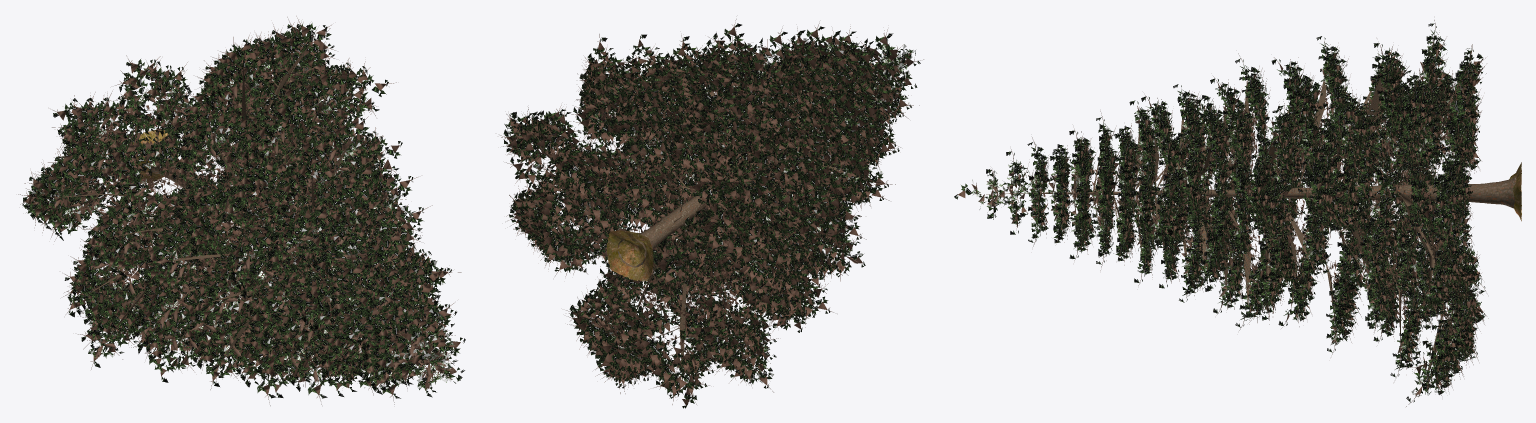
File: granfir.glb
3 views of the same model, side by side, from view 1: azimuth 30°, elevation 25°; view 2: azimuth 150°, elevation 25°; view 3: azimuth 270°, elevation 25° (orthographic). The views are drawn at different scales.
Parts seen in each view (by area): view 1: Fir; view 2: Fir; view 3: Fir.
Part boxes in pixels (x1,y1,x2,y2): Fir: (18, 16, 465, 405); Fir: (500, 19, 923, 408); Fir: (954, 20, 1521, 406).
Bounding box in the file's own units: 5.72 × 5.43 × 8.01.
5 materials, 5 textured.
